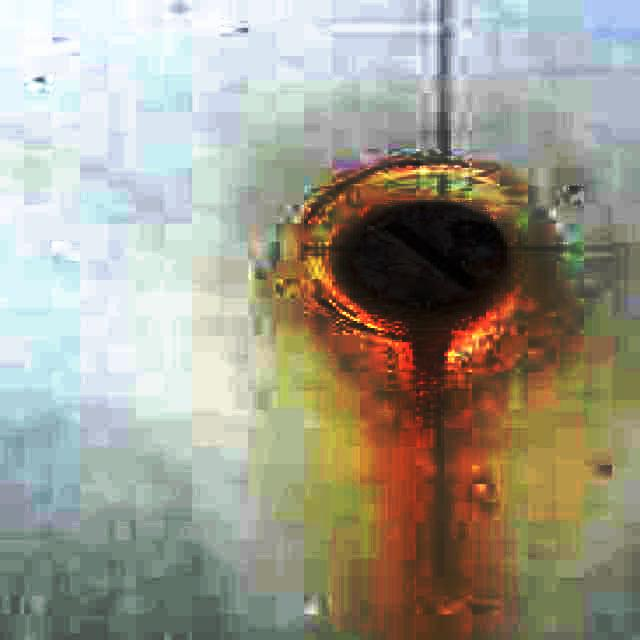Corrosion: (343, 201, 509, 334)
